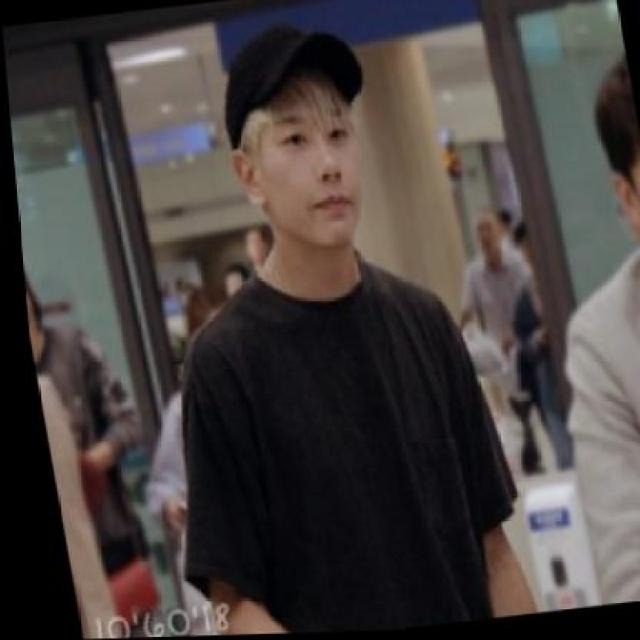hat: (206, 24, 371, 148)
